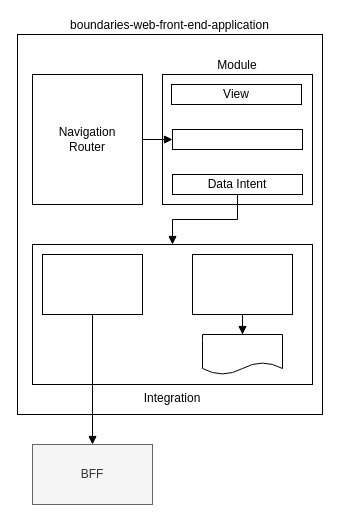
The diagram is 340 pixels wide and 522 high, and some of its shapes have lost their labels. The shapes that lost their labels are listed below. From the top down, each one's centre as x and y in pixels, then its label:
point 237,139: Route
point 92,284: HTTP integration (to bff)
point 242,284: Memory Integration (static files)
point 242,354: JSON
